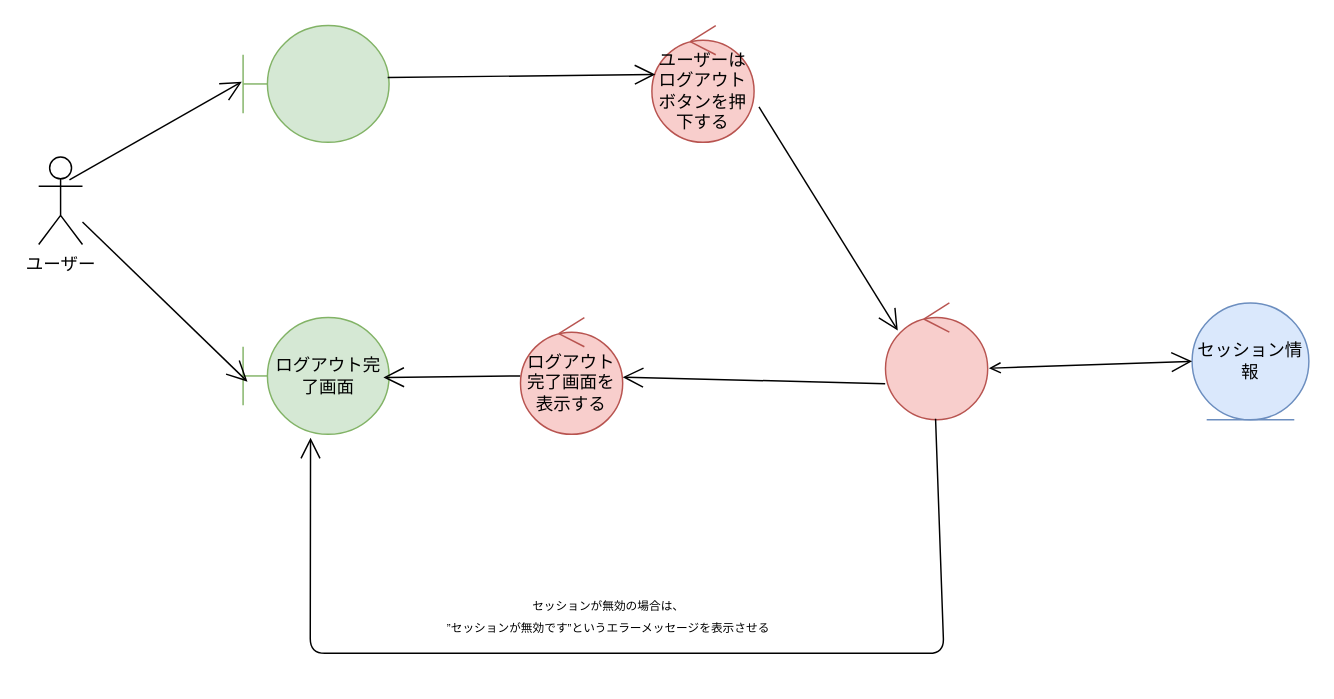
Some shapes in this 1334 by 699 pixel diagram are drawn without their labels. The box of each missing label's shape, as (x1, y1, x2, y2) in pixels:
Web訪問者システムの画面: (242, 24, 389, 142)
セッション情報を削除: (884, 301, 988, 420)
